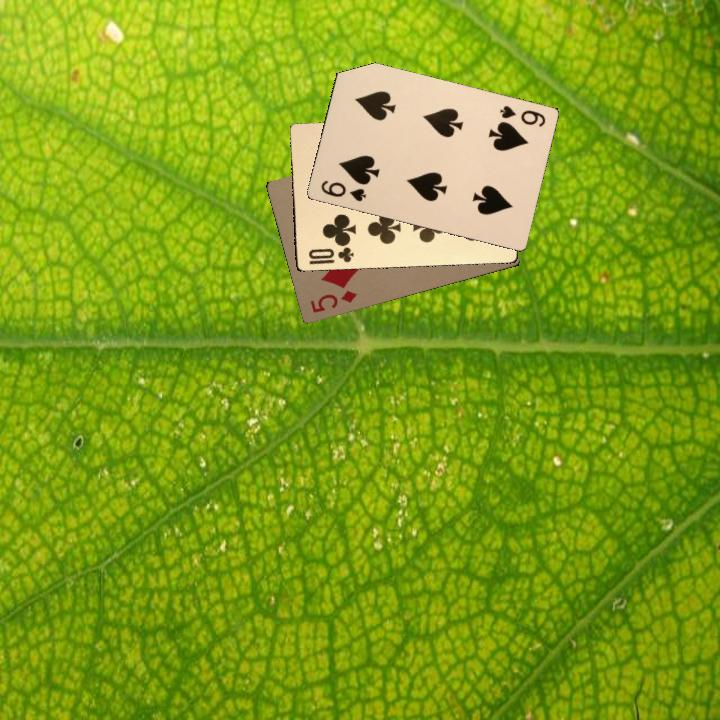10c: (305, 243, 356, 267)
5d: (306, 286, 359, 315)
6s: (495, 101, 548, 129), (317, 176, 369, 204)
